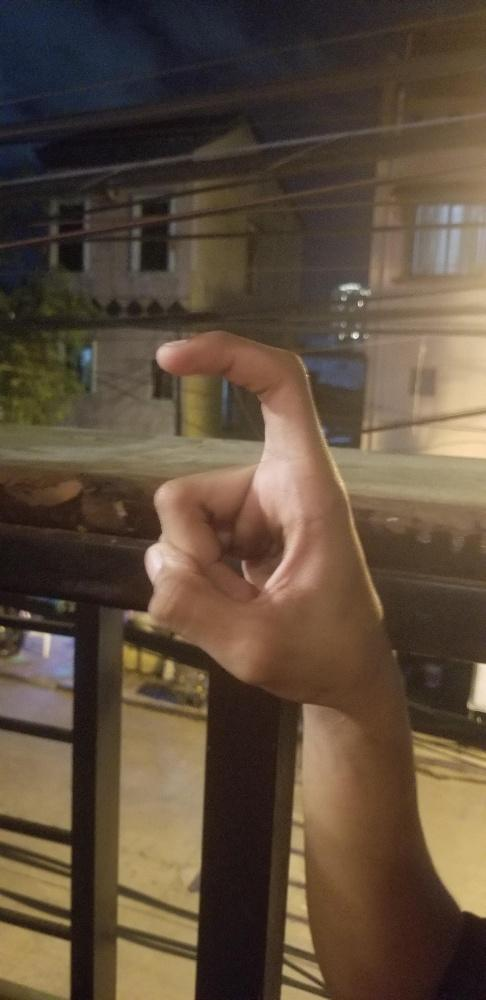x: (143, 330, 389, 698)
